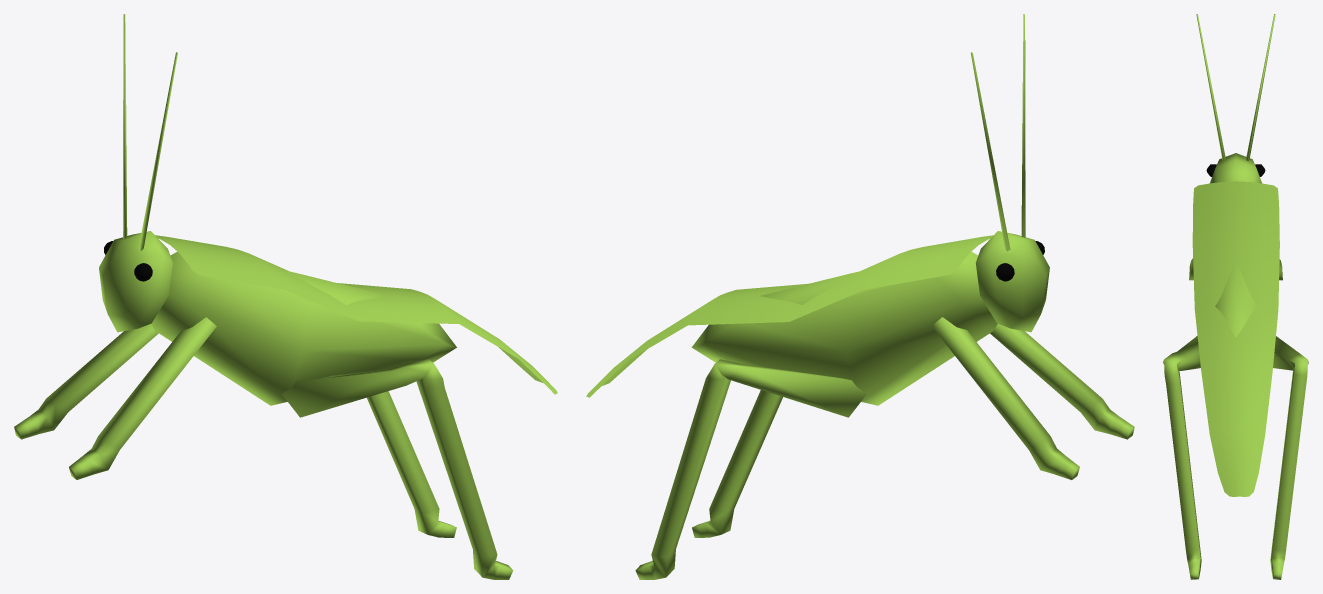
Rendered from grasshopper_anim4.fbx.
The picture shows the model from 3 angles, left to right: view 1: azimuth 30°, elevation 25°; view 2: azimuth 150°, elevation 25°; view 3: azimuth 270°, elevation 25°; orthographic projection. The views are drawn at different scales.
Parts seen in each view (by area): view 1: grasshopper; view 2: grasshopper; view 3: grasshopper.
Part boxes in pixels (x1,y1,x2,y2): grasshopper: (14,14,557,579); grasshopper: (586,14,1134,579); grasshopper: (1163,14,1308,579).
Bounding box in the file's own units: 20.94 × 23.64 × 6.98.
